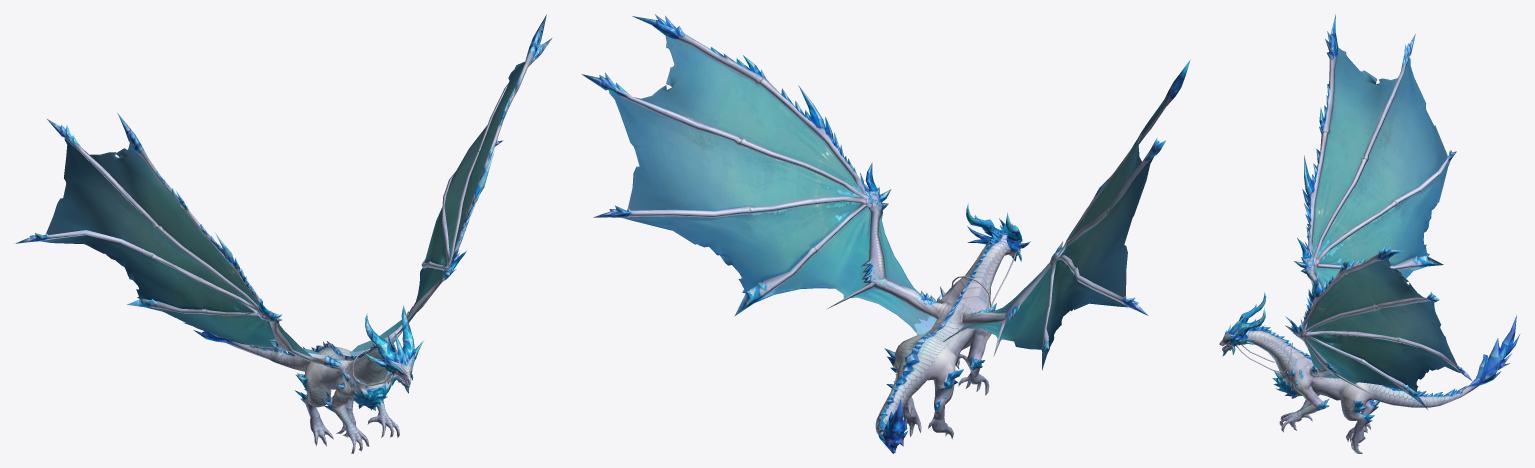
The model's file is dragons.glTF.
The picture shows the model from 3 angles, left to right: view 1: azimuth 30°, elevation 25°; view 2: azimuth 150°, elevation 25°; view 3: azimuth 270°, elevation 25°; orthographic projection. The views are drawn at different scales.
Visible parts, largest first — view 1: Object_102; view 2: Object_102; view 3: Object_102.
Boxes of the visible parts, left/top/right/bottom form: Object_102: left=14, top=14, right=551, bottom=453; Object_102: left=581, top=14, right=1190, bottom=453; Object_102: left=1219, top=14, right=1519, bottom=453.
Bounding box in the file's own units: 2.5 × 1.78 × 1.44.
1 material, 1 textured.
